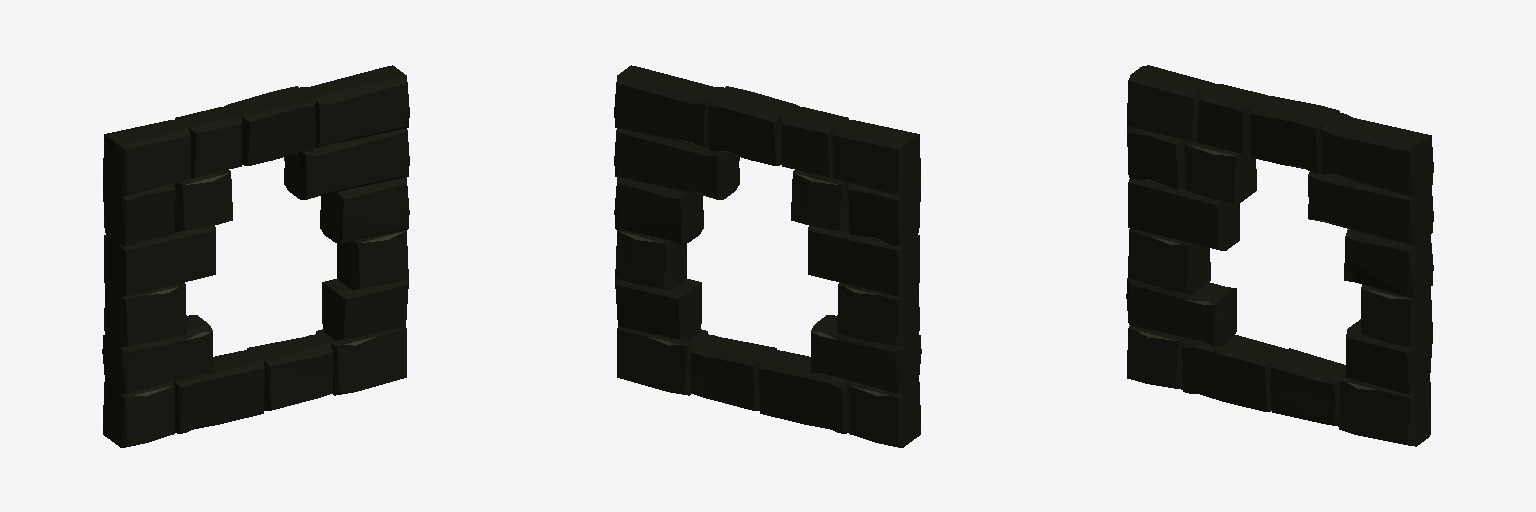
File: Wall_Hole.obj
3 renders of one model, left to right at view 1: azimuth 30°, elevation 25°; view 2: azimuth 150°, elevation 25°; view 3: azimuth 330°, elevation 25°, orthographic.
Parts seen in each view (by area): view 1: Wall_Hole_Cube.055; view 2: Wall_Hole_Cube.055; view 3: Wall_Hole_Cube.055.
Part boxes in pixels (bbox=[...]): Wall_Hole_Cube.055: bbox=[102, 65, 409, 447]; Wall_Hole_Cube.055: bbox=[614, 65, 921, 447]; Wall_Hole_Cube.055: bbox=[1126, 65, 1433, 446].
Bounding box in the file's own units: 2 × 2 × 0.2856.